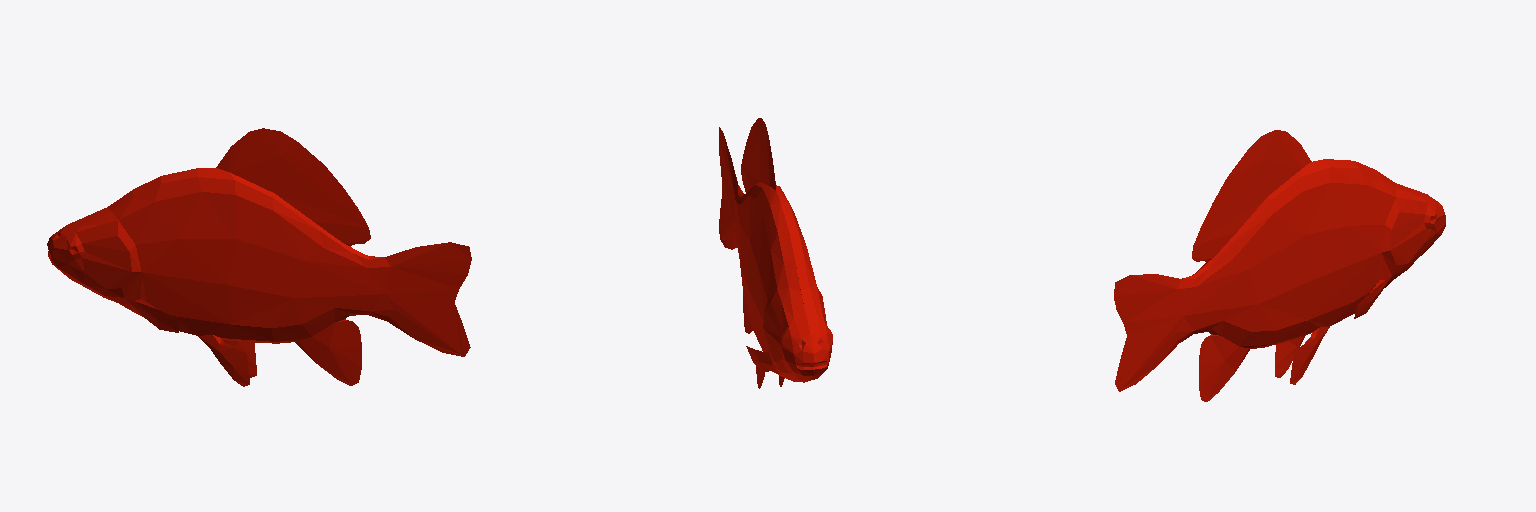
Rendered from fishesInSeaScene.obj.
3 renders of one model, left to right at view 1: azimuth 30°, elevation 25°; view 2: azimuth 150°, elevation 25°; view 3: azimuth 270°, elevation 25°, orthographic.
Visible parts, largest first — view 1: Circle; view 2: Circle; view 3: Circle.
Boxes of the visible parts, <box> form: Circle: <box>47,128,471,386</box>; Circle: <box>719,118,832,388</box>; Circle: <box>1114,130,1445,401</box>.
Bounding box in the file's own units: 1.35 × 1.25 × 1.47.